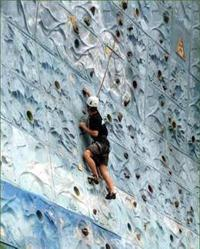person: (80, 86, 117, 202)
